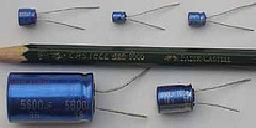Electrolytic-capacitor: (6, 68, 150, 126), (157, 77, 253, 119), (185, 1, 256, 34), (112, 2, 179, 35), (15, 6, 100, 32)
